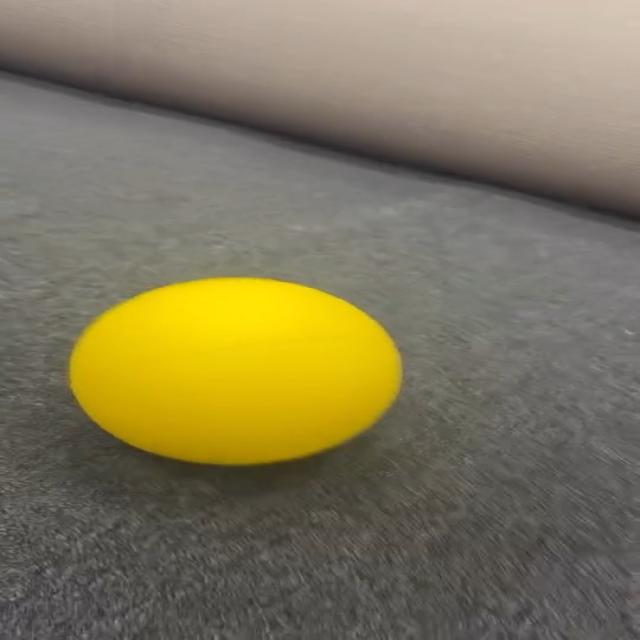Fuels: (72, 277, 403, 464)
